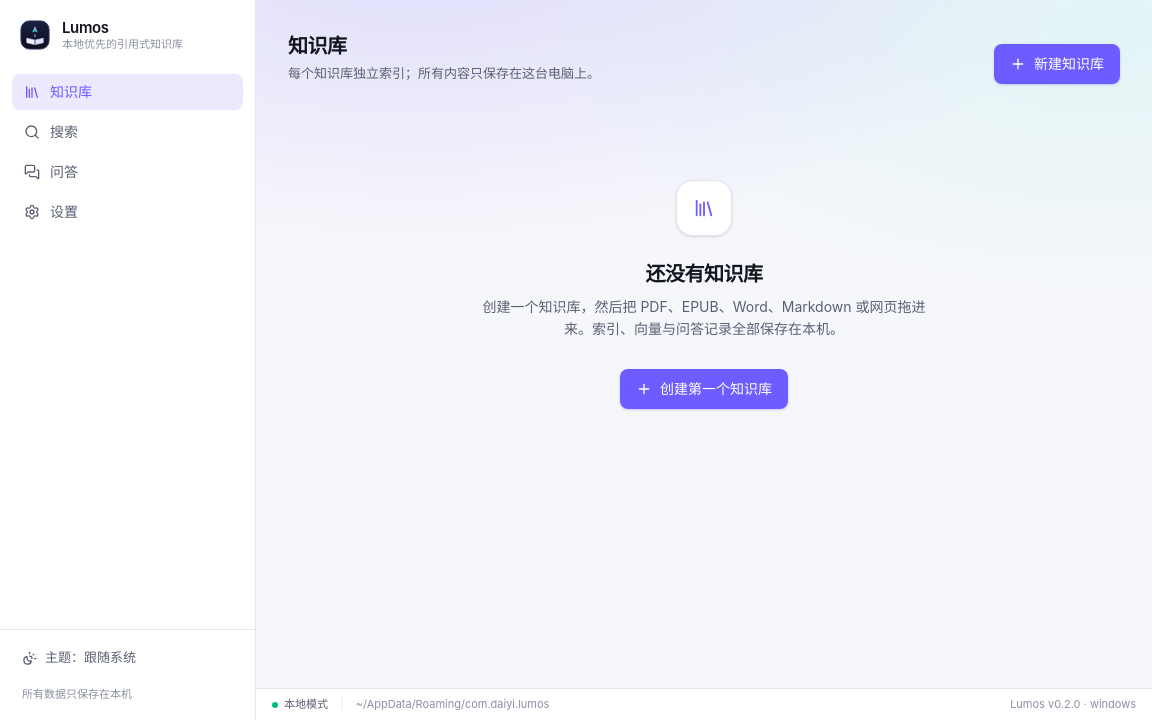
it: 知识库 › 创建知识库后出现在列表中
The width and height of the screenshot is (1152, 720).
Expected: the heading "还没有知识库" is shown, [646,260,762,288]
Click the button "新建知识库". click: click(1057, 64)
box: [994,44,1120,84]
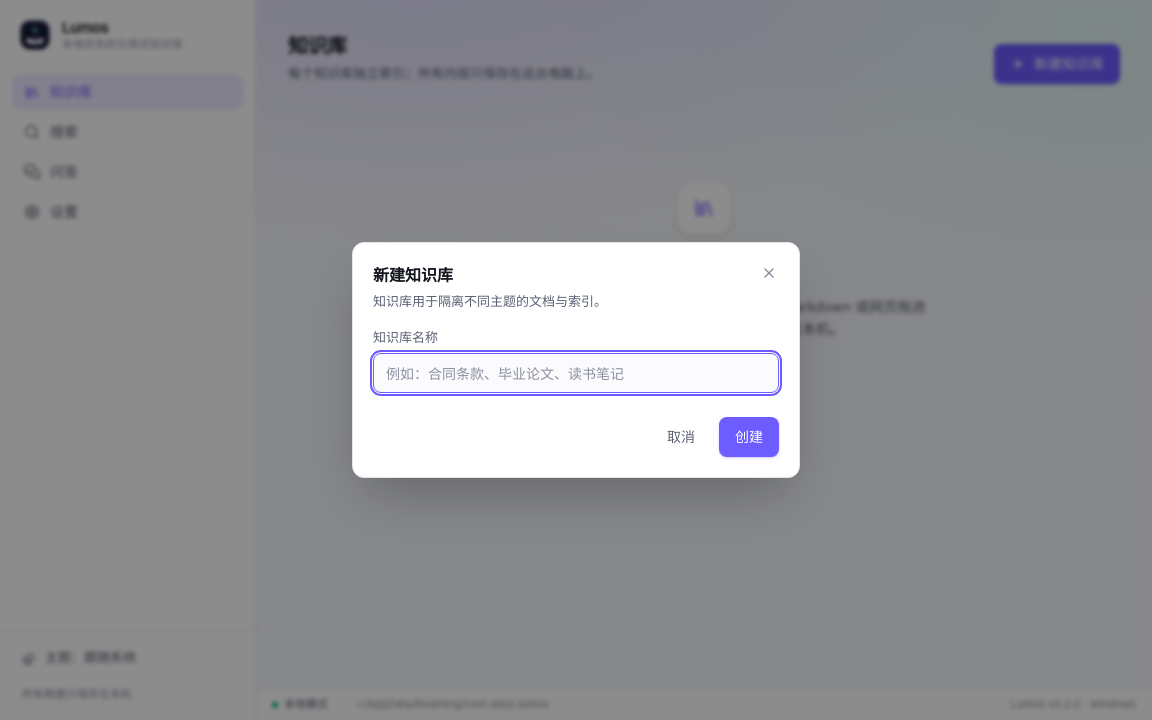
Type "合同条款" into the field labelled "知识库名称". click: (576, 373)
box: [373,353,779,393]
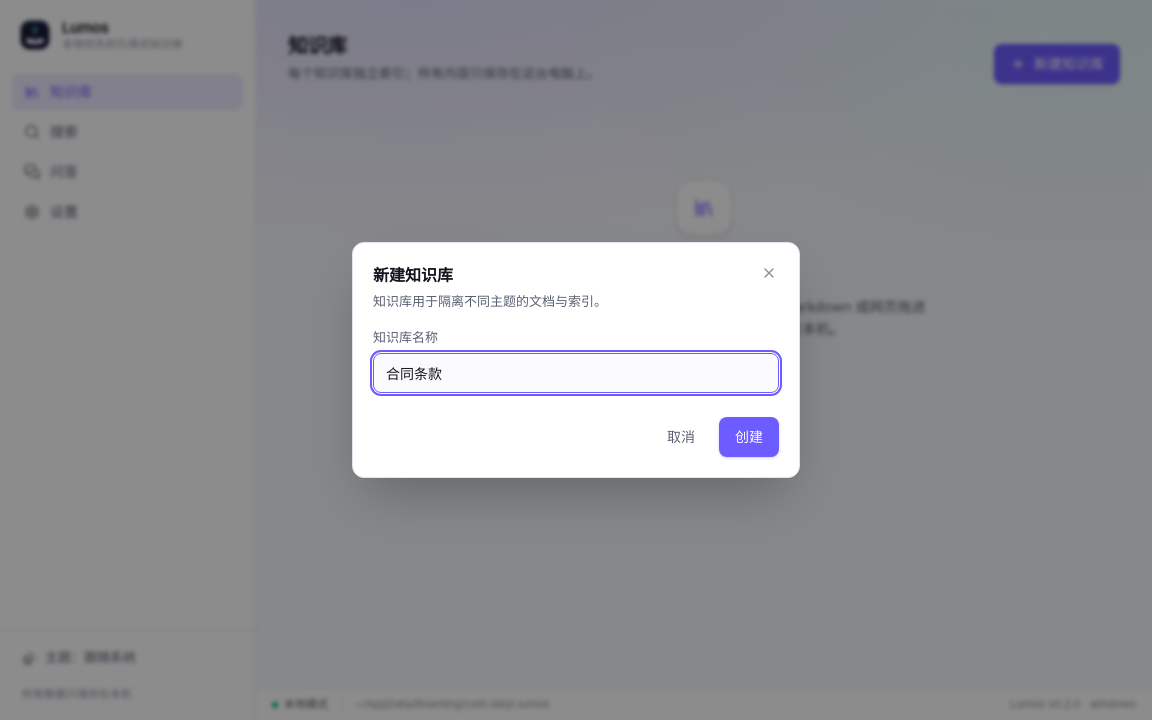
Click the button "创建". click: click(749, 437)
box: [719,417,779,457]
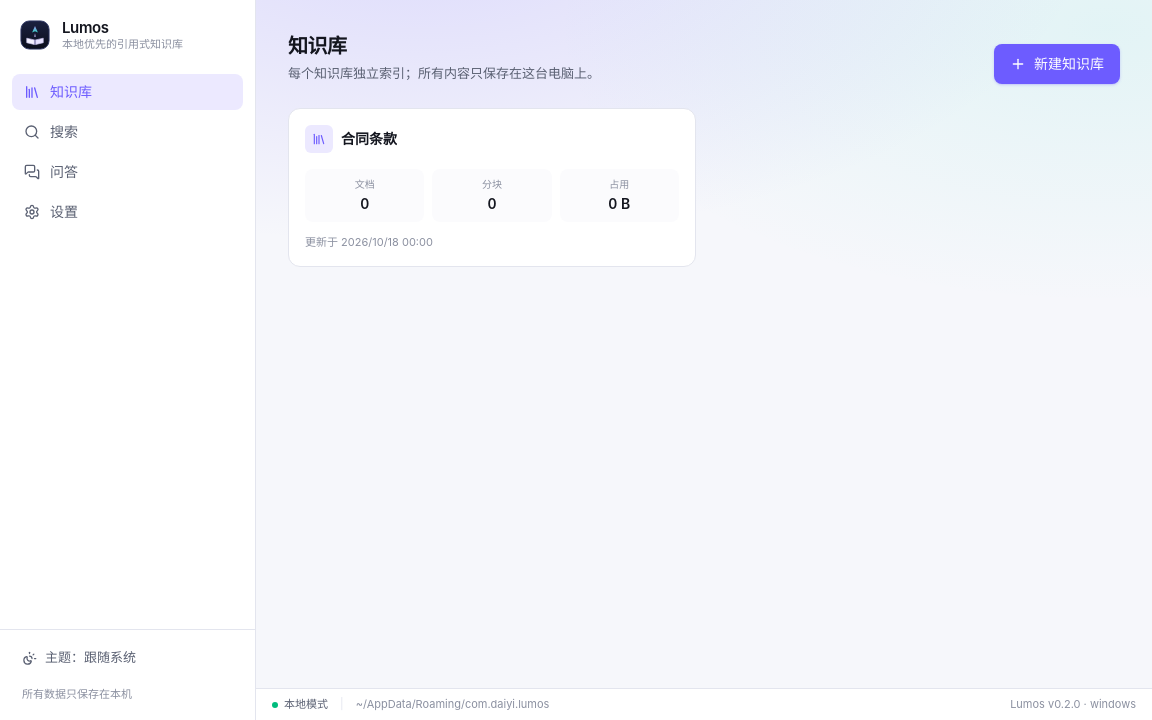
Now the heading "合同条款" is shown, box [341,128,397,148]
